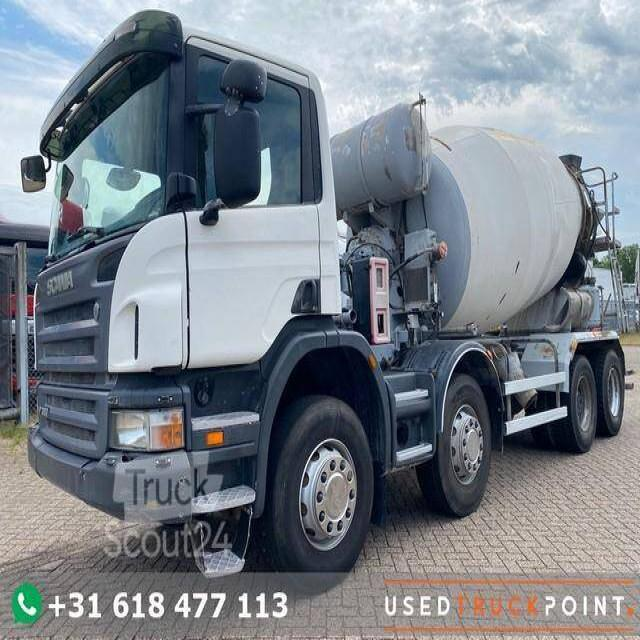Mixer Truck: (29, 11, 633, 572)
